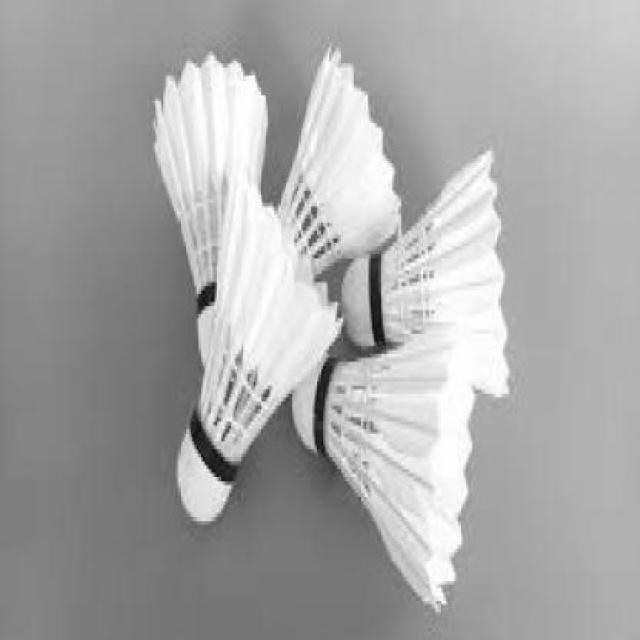Shuttlecock: (177, 166, 345, 526), (292, 323, 478, 614), (340, 150, 511, 398)
